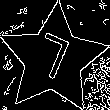L_SW: (30, 30, 77, 89)
